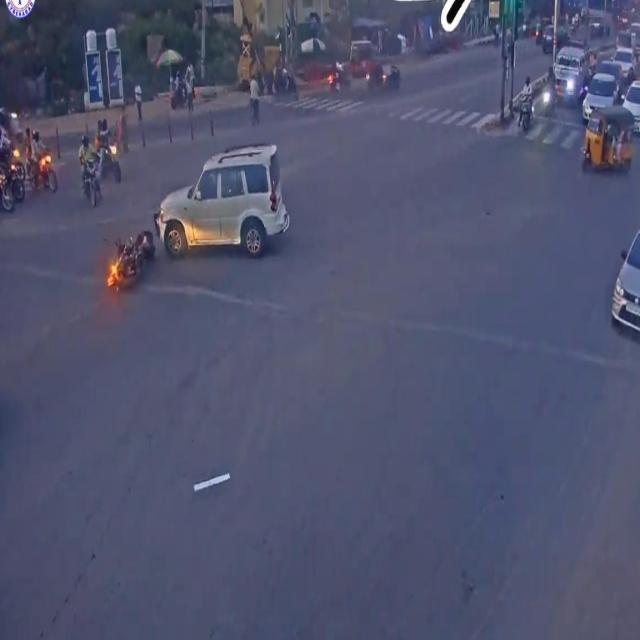accident: (107, 130, 301, 314)
non_accident: (519, 47, 640, 185), (0, 118, 60, 222), (79, 109, 125, 211)
